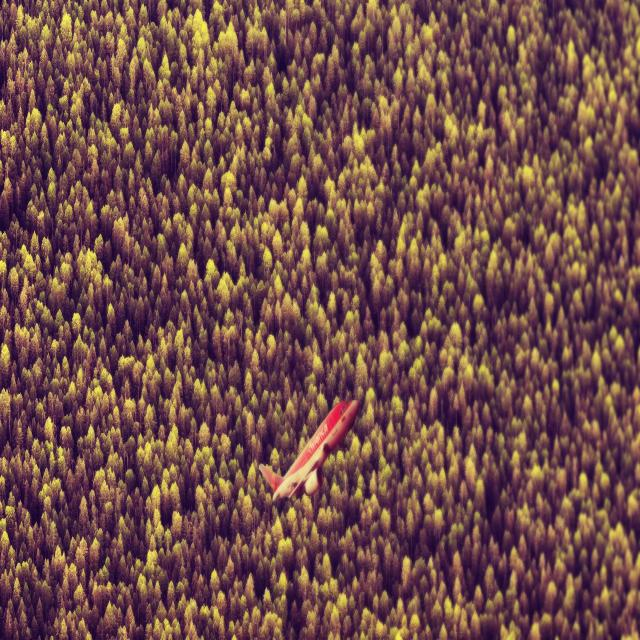airplane: (258, 398, 359, 504)
